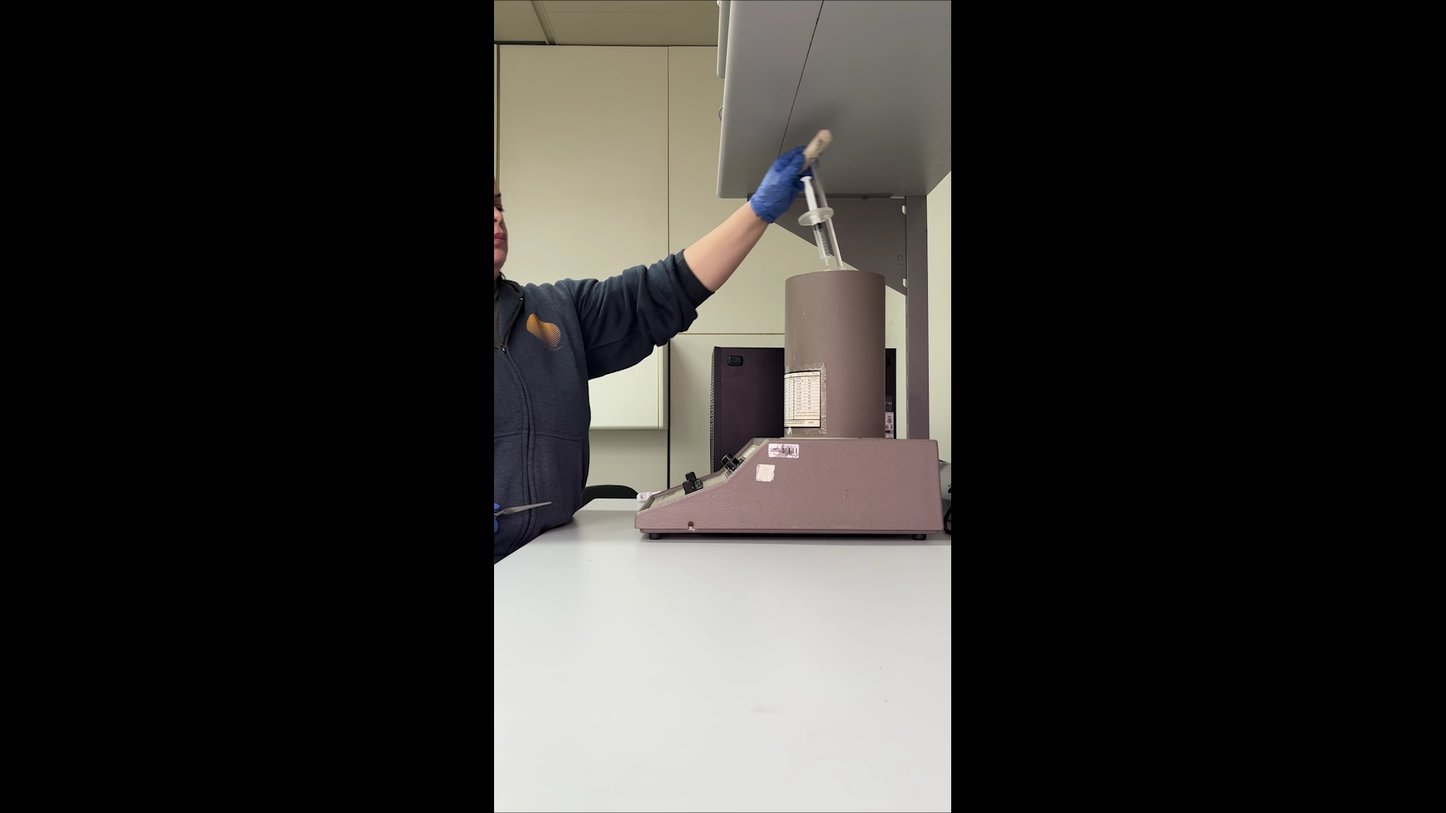Amostra: (801, 176, 835, 271)
Ativimetro: (782, 268, 887, 437)
Com_Luva: (749, 142, 820, 224)
